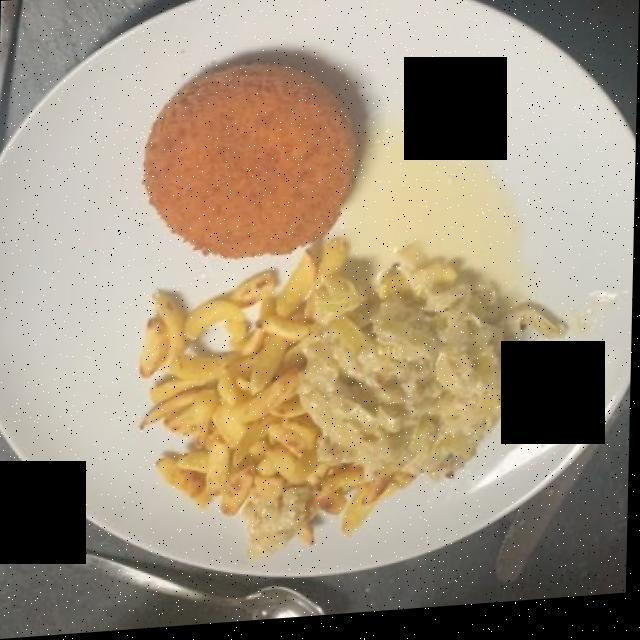leek: (297, 280, 564, 483)
sauce: (348, 119, 528, 306)
spaetzle: (145, 267, 336, 546)
